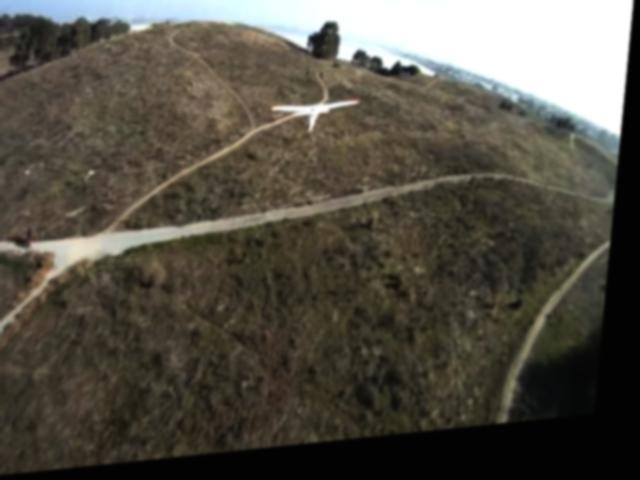uav: (266, 93, 370, 152)
